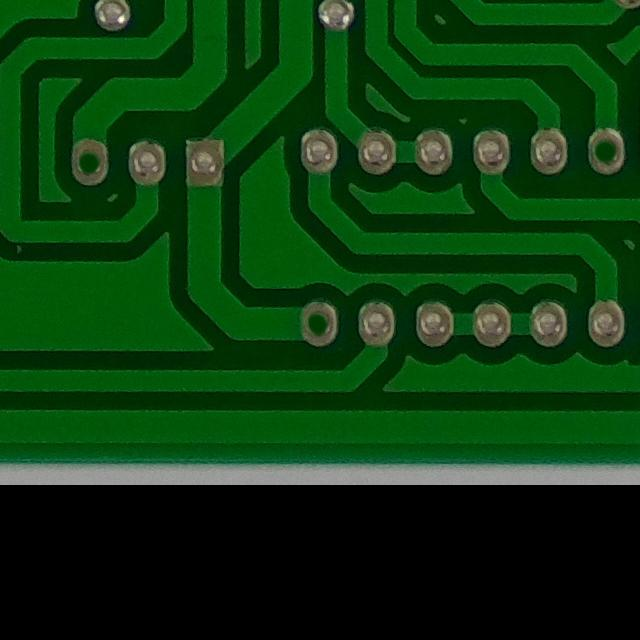missing_hole: (59, 131, 119, 197), (291, 295, 347, 355), (580, 122, 635, 183)
